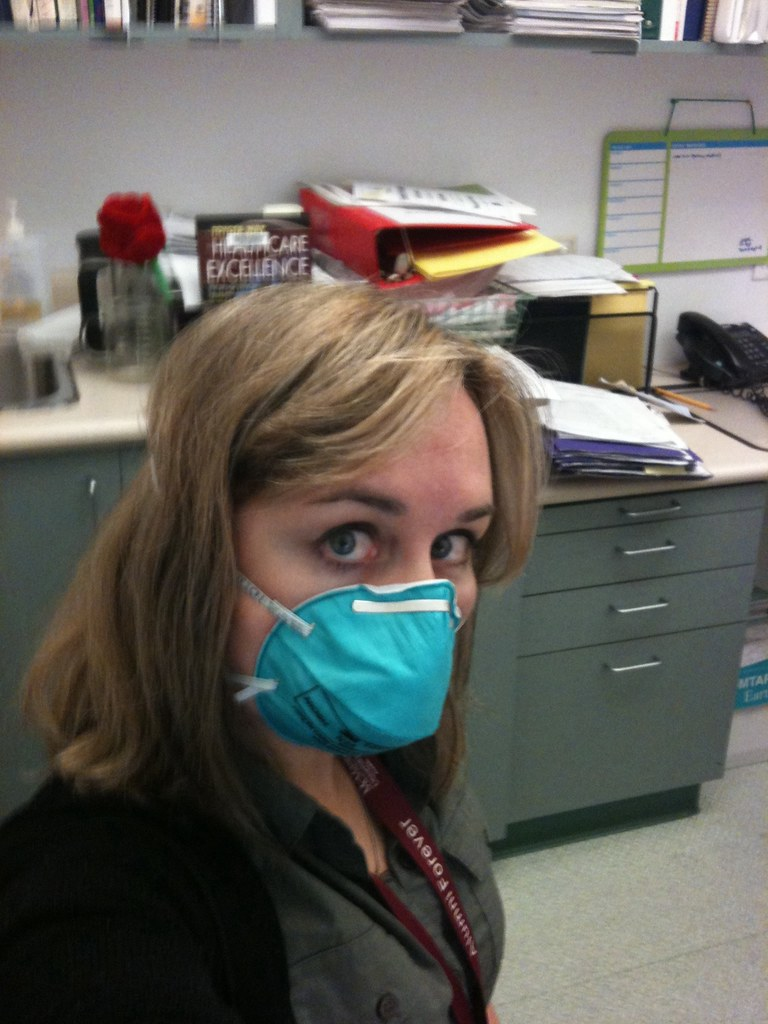n95: (239, 570, 483, 770)
